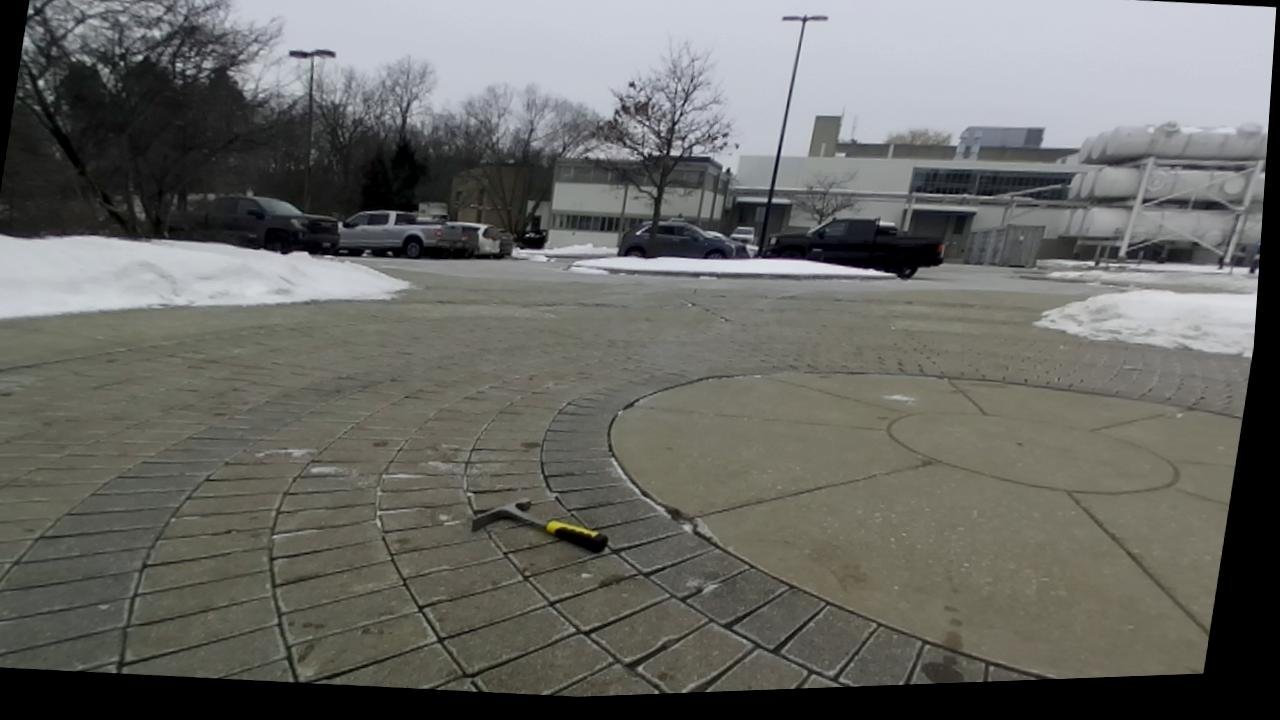pick: (471, 498, 608, 552)
